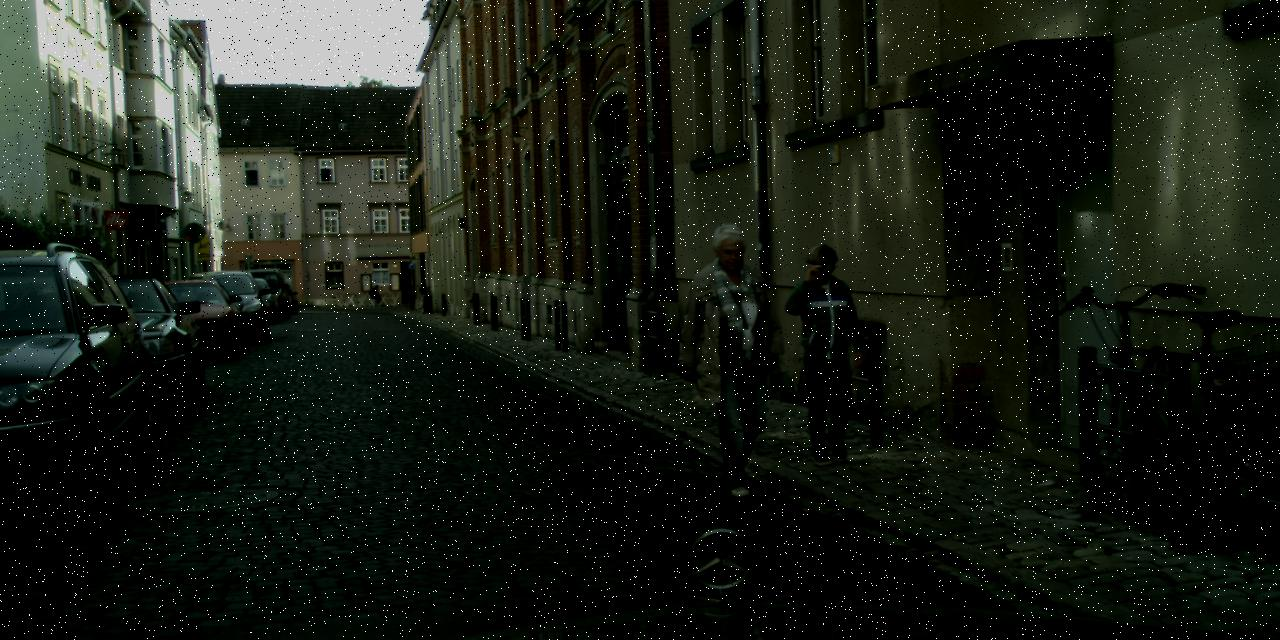ped: (680, 224, 789, 489), (784, 244, 871, 459)
